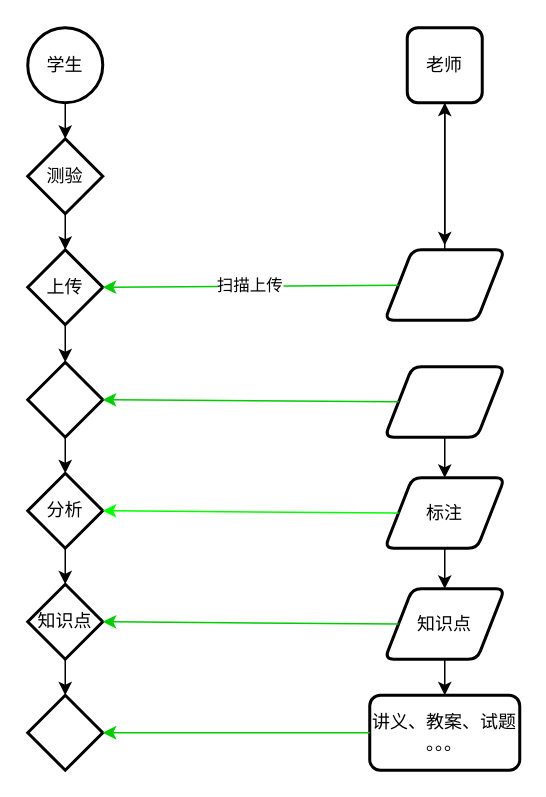
Some shapes in this 546 by 797 pixel diagram are drawn without their labels. Here are the shapes that lost their labels. From the top down, the centre of each, then its label:
(444,284): 阅卷
(65,399): 批改
(444,401): 批注
(65,732): 推荐
